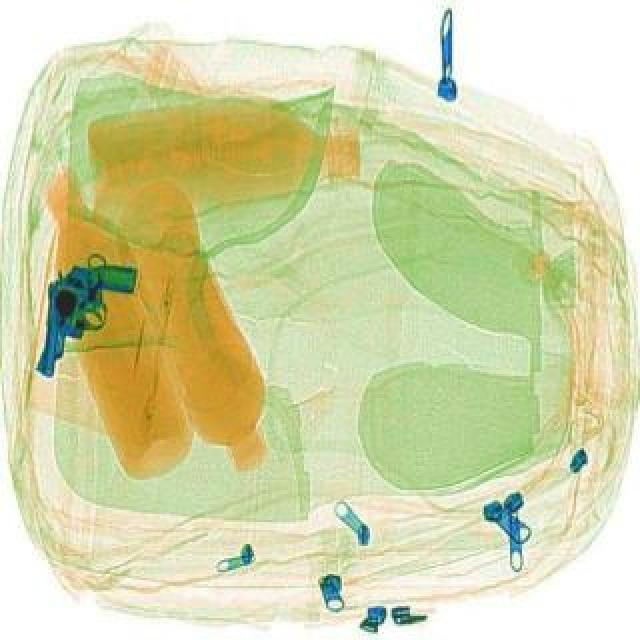gun: (22, 244, 142, 392)
